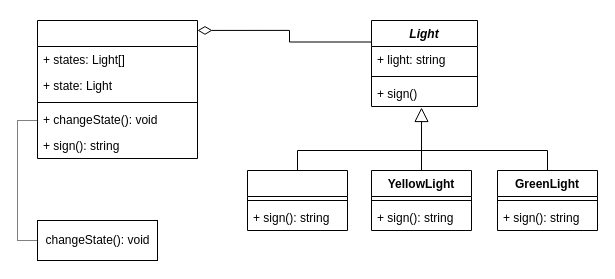
Some shapes in this 615 by 279 pixel diagram are drawn without their labels. The shapes that lost their labels are listed below. From the top down, each one's box as (x1, y1, x2, y2) in pixels, then its label:
(36, 20, 198, 158): TrafficLight
(246, 170, 348, 230): RedLight
